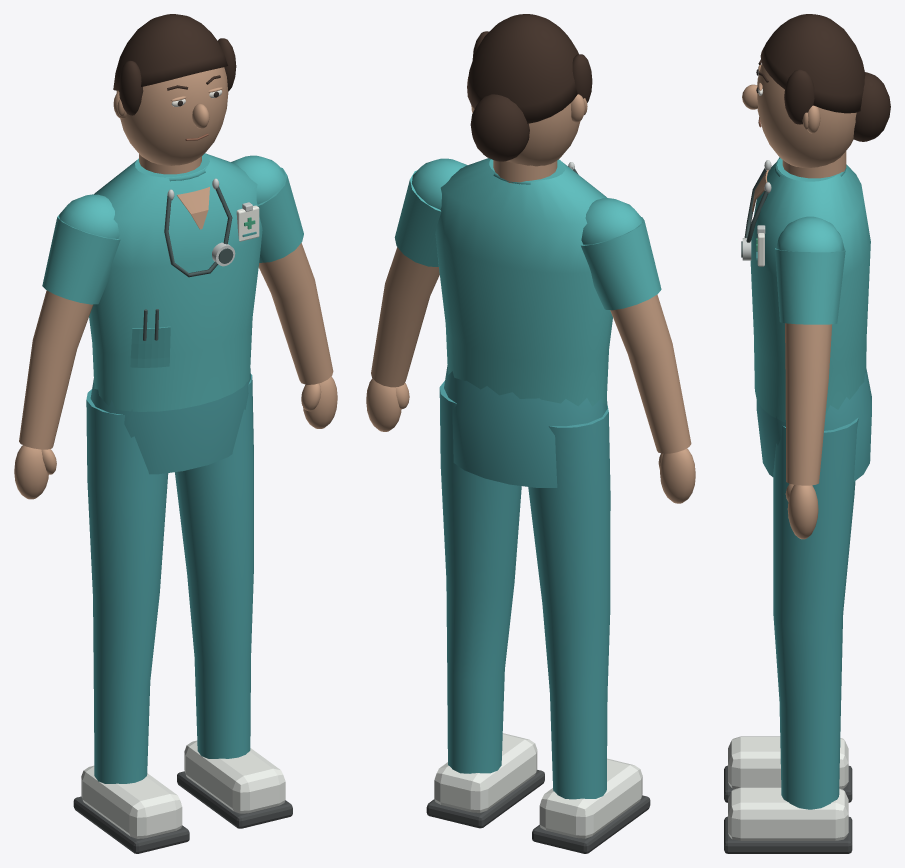
Rendered from person_nurse.glb.
The picture shows the model from 3 angles, left to right: view 1: azimuth 30°, elevation 25°; view 2: azimuth 150°, elevation 25°; view 3: azimuth 270°, elevation 25°; orthographic projection.
Parts seen in each view (by area): view 1: Nurse_Torso_And_Main_Clothes, Nurse_Trouser_Leg, Nurse_Trouser_Leg.001, Nurse_Connected_Hip_Garment, Nurse_Head, Nurse_Arm_Skin, Nurse_Arm_Skin.001, Nurse_Hair_Cap, Nurse_Shoe_Upper.001, Nurse_Shoe_Upper, Nurse_Short_Sleeve, Nurse_Short_Sleeve.001 (+12 smaller); view 2: Nurse_Torso_And_Main_Clothes, Nurse_Trouser_Leg, Nurse_Trouser_Leg.001, Nurse_Connected_Hip_Garment, Nurse_Hair_Cap, Nurse_Arm_Skin, Nurse_Arm_Skin.001, Nurse_Short_Sleeve, Nurse_Shoe_Upper, Nurse_Shoe_Upper.001, Nurse_Low_Tied_Hair_Bun, Nurse_Short_Sleeve.001 (+9 smaller); view 3: Nurse_Trouser_Leg.001, Nurse_Torso_And_Main_Clothes, Nurse_Hair_Cap, Nurse_Arm_Skin.001, Nurse_Shoe_Upper.001, Nurse_Head, Nurse_Short_Sleeve.001, Nurse_Connected_Hip_Garment, Nurse_Shoe_Upper, Nurse_Shoe_Sole.001, Nurse_Rounded_Shoulder_Cloth.001, Nurse_Low_Tied_Hair_Bun (+6 smaller).
Boxes of the visible parts, x1,y1,x2,y2 form: Nurse_Torso_And_Main_Clothes: [89, 153, 262, 411]; Nurse_Trouser_Leg: [86, 389, 168, 783]; Nurse_Trouser_Leg.001: [175, 374, 253, 758]; Nurse_Connected_Hip_Garment: [90, 368, 250, 474]; Nurse_Head: [116, 67, 228, 165]; Nurse_Arm_Skin: [19, 290, 93, 449]; Nurse_Arm_Skin.001: [258, 243, 333, 384]; Nurse_Hair_Cap: [113, 14, 227, 90]; Nurse_Shoe_Upper.001: [184, 740, 285, 813]; Nurse_Shoe_Upper: [81, 765, 182, 838]; Nurse_Short_Sleeve: [42, 215, 120, 304]; Nurse_Short_Sleeve.001: [257, 167, 303, 262]; Nurse_Torso_And_Main_Clothes: [435, 158, 612, 406]; Nurse_Trouser_Leg: [528, 405, 610, 799]; Nurse_Trouser_Leg.001: [439, 381, 521, 773]; Nurse_Connected_Hip_Garment: [444, 365, 607, 487]; Nurse_Hair_Cap: [467, 14, 578, 123]; Nurse_Arm_Skin: [610, 294, 691, 453]; Nurse_Arm_Skin.001: [371, 247, 439, 387]; Nurse_Short_Sleeve: [581, 217, 661, 310]; Nurse_Shoe_Upper: [539, 758, 642, 838]; Nurse_Shoe_Upper.001: [434, 733, 537, 812]; Nurse_Low_Tied_Hair_Bun: [470, 94, 529, 161]; Nurse_Short_Sleeve.001: [394, 170, 441, 266]; Nurse_Trouser_Leg.001: [773, 417, 858, 809]; Nurse_Torso_And_Main_Clothes: [750, 158, 870, 422]; Nurse_Hair_Cap: [760, 14, 865, 113]; Nurse_Arm_Skin.001: [785, 323, 832, 485]; Nurse_Shoe_Upper.001: [728, 787, 848, 840]; Nurse_Head: [757, 63, 856, 167]; Nurse_Short_Sleeve.001: [775, 248, 845, 324]; Nurse_Connected_Hip_Garment: [756, 369, 871, 481]; Nurse_Shoe_Upper: [728, 736, 848, 788]; Nurse_Shoe_Sole.001: [724, 816, 852, 853]; Nurse_Rounded_Shoulder_Cloth.001: [776, 216, 844, 252]; Nurse_Low_Tied_Hair_Bun: [853, 72, 890, 141].
Bounding box in the file's own units: 0.7001 × 1.65 × 0.3123.
